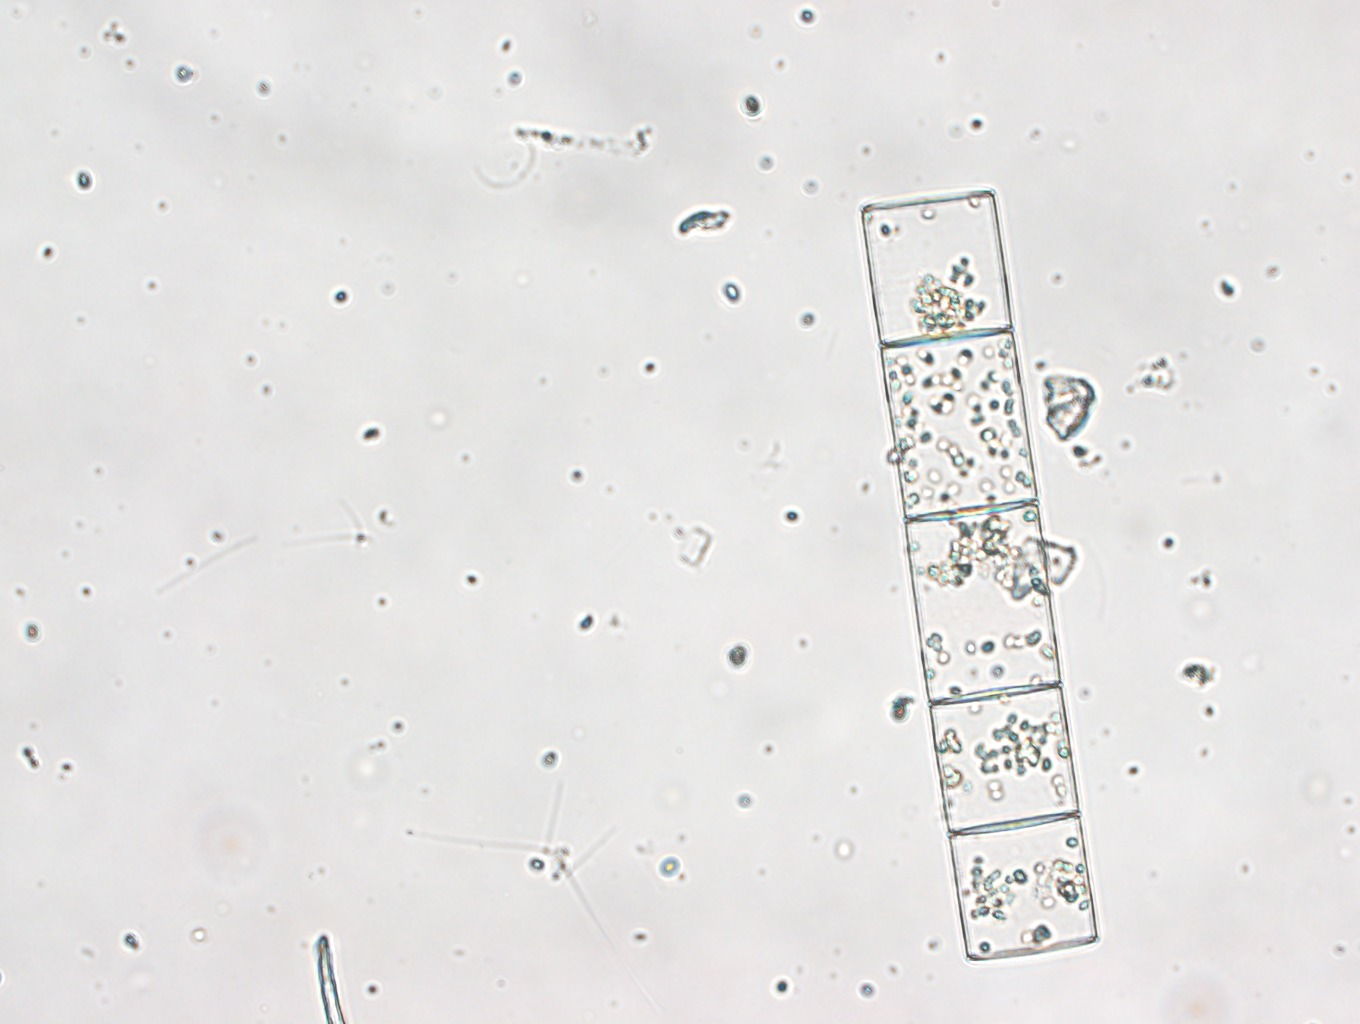guinardia flaccida: (859, 190, 1101, 962)
